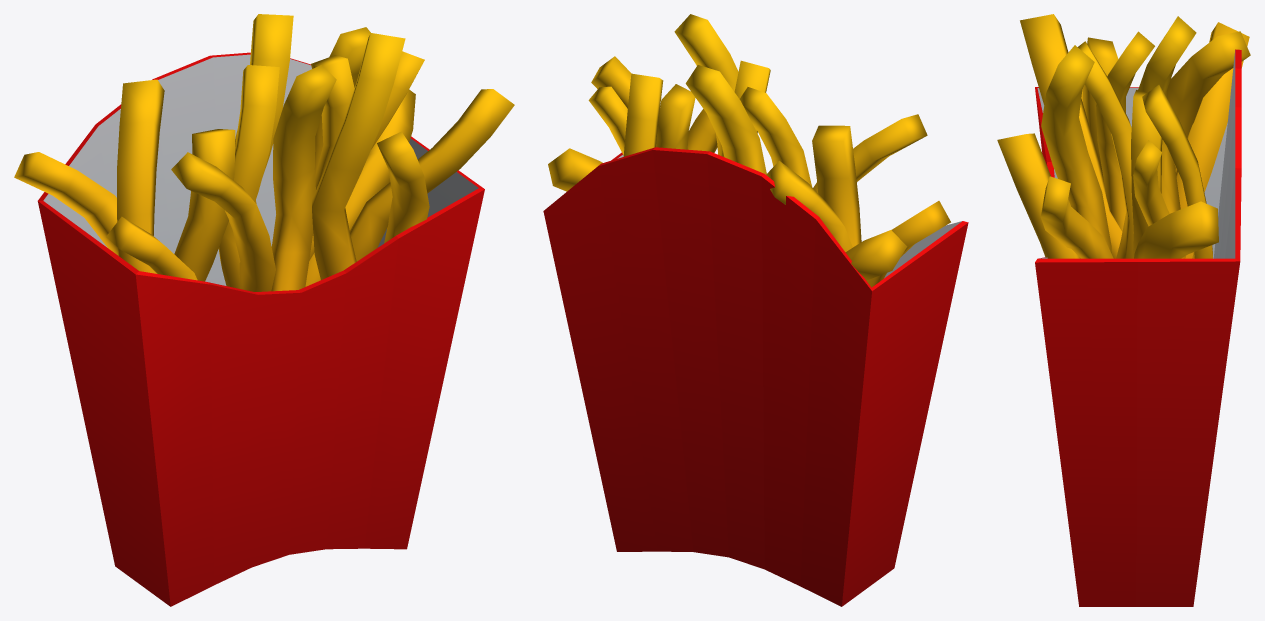
The model's file is itemNormal03.fbx.
3 renders of one model, left to right at view 1: azimuth 30°, elevation 25°; view 2: azimuth 150°, elevation 25°; view 3: azimuth 270°, elevation 25°, orthographic. The views are drawn at different scales.
Visible parts, largest first — view 1: Fries; view 2: Fries; view 3: Fries.
Part boxes in pixels (x1=…): Fries: x1=14, y1=14, x2=514, y2=606; Fries: x1=543, y1=14, x2=968, y2=606; Fries: x1=997, y1=14, x2=1250, y2=606.
Size of the model in its own units: 124 by 154 by 65.23.
